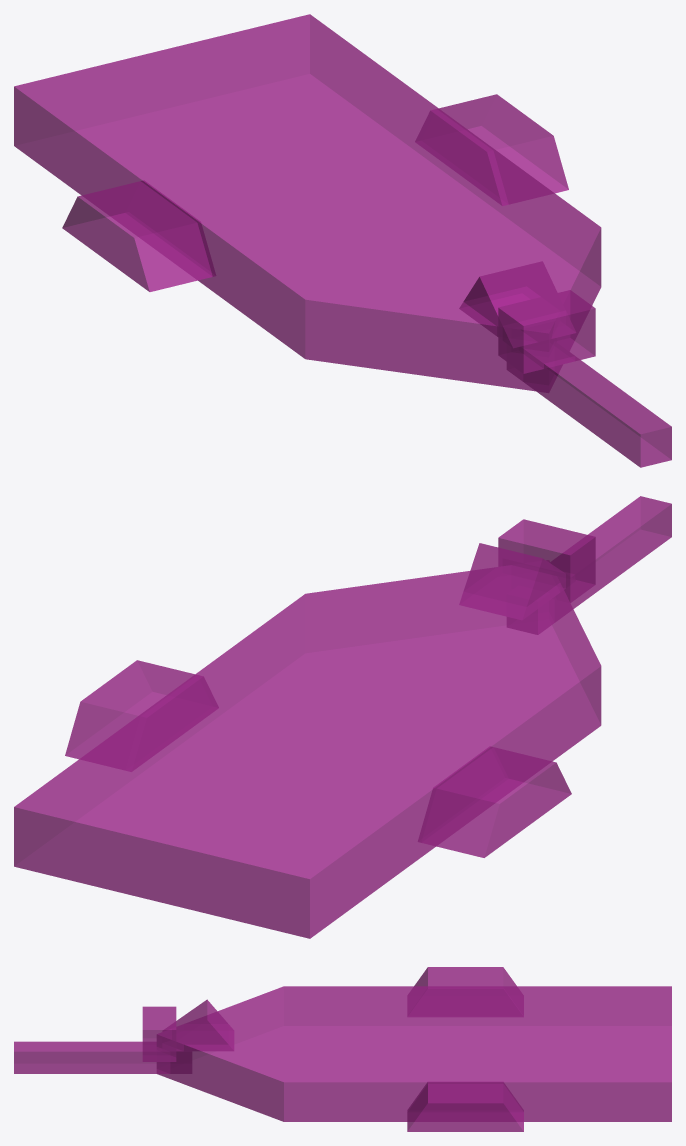
The model's file is SM_Veh_Trailer_01_Collision.fbx.
The picture shows the model from 3 angles, top to bottom: view 1: azimuth 30°, elevation 25°; view 2: azimuth 150°, elevation 25°; view 3: azimuth 270°, elevation 25°; orthographic projection. The views are drawn at different scales.
Parts seen in each view (by area): view 1: SM_Veh_Trailer_01_Collision; view 2: SM_Veh_Trailer_01_Collision; view 3: SM_Veh_Trailer_01_Collision.
Part boxes in pixels (<box>): SM_Veh_Trailer_01_Collision: <box>14,14,671,467</box>; SM_Veh_Trailer_01_Collision: <box>14,496,671,938</box>; SM_Veh_Trailer_01_Collision: <box>14,967,671,1131</box>.
Size of the model in its own units: 208 by 45.74 by 424.
